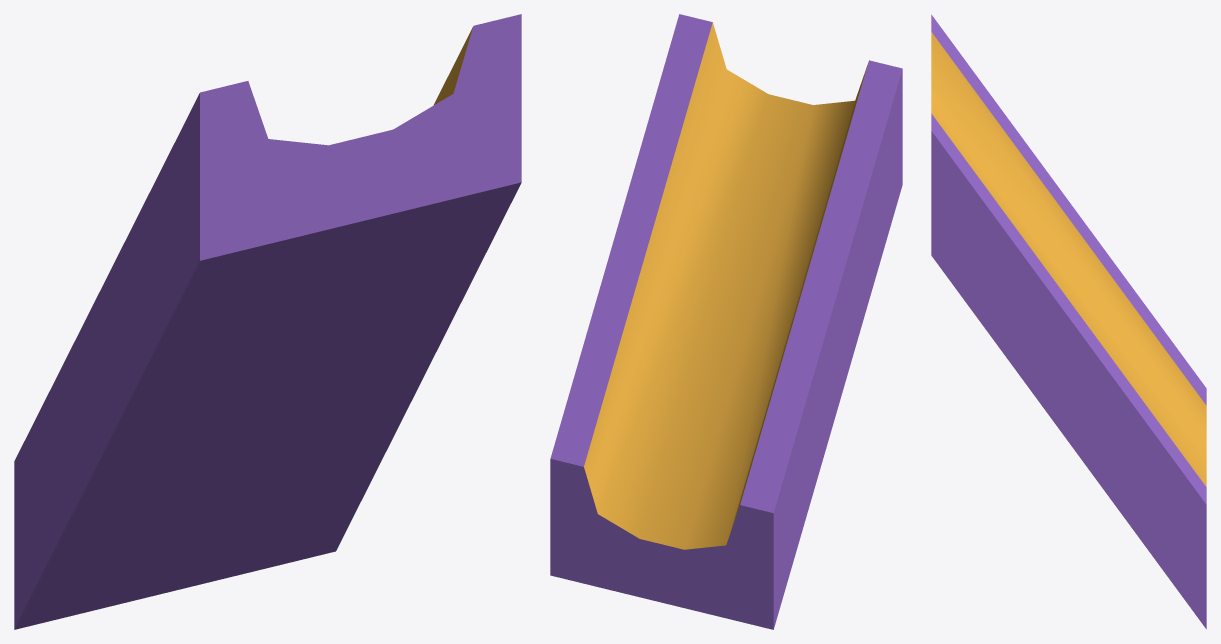
The model's file is slant-d.glb.
3 views of the same model, side by side, from view 1: azimuth 30°, elevation 25°; view 2: azimuth 150°, elevation 25°; view 3: azimuth 270°, elevation 25° (orthographic). The views are drawn at different scales.
Parts seen in each view (by area): view 1: slant-d; view 2: slant-d; view 3: slant-d.
Boxes of the visible parts, <box> form: slant-d: <box>14,14,521,629</box>; slant-d: <box>550,14,902,629</box>; slant-d: <box>931,14,1206,629</box>.
Bounding box in the file's own units: 1 × 2 × 1.
Materials: 1 (1 with a texture image).
